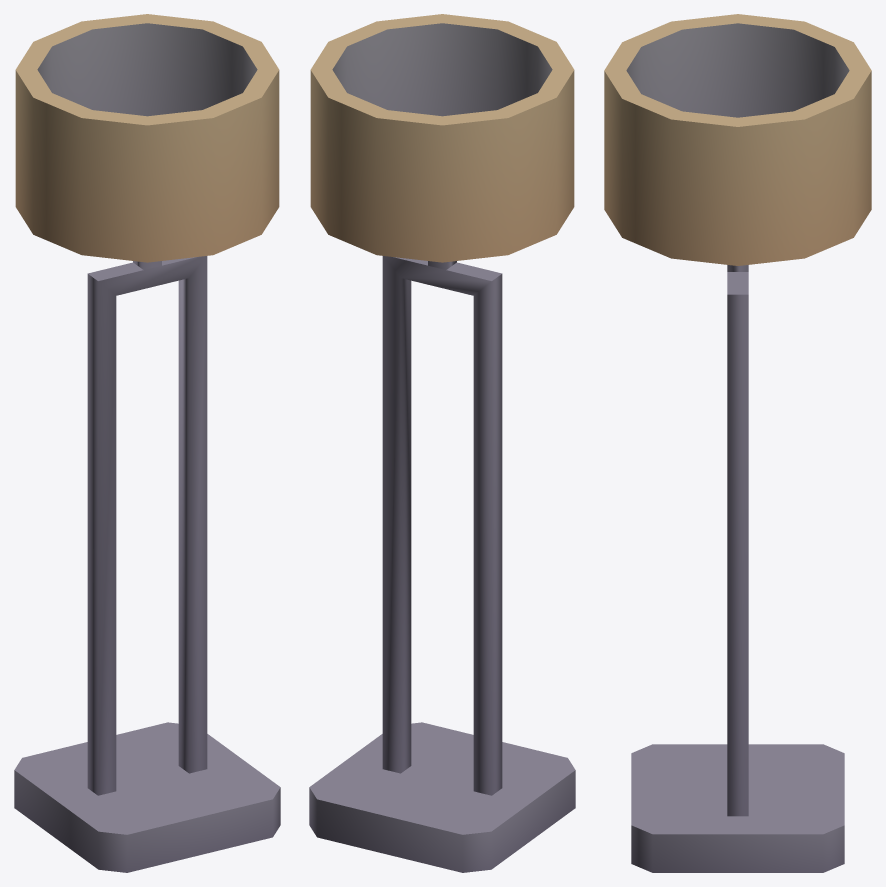
File: lamp-fork-standing.glb
3 views of the same model, side by side, from view 1: azimuth 30°, elevation 25°; view 2: azimuth 150°, elevation 25°; view 3: azimuth 270°, elevation 25° (orthographic).
Visible parts, largest first — view 1: lamp-fork-standing; view 2: lamp-fork-standing; view 3: lamp-fork-standing.
Boxes of the visible parts, x1,y1,x2,y2 form: lamp-fork-standing: (14, 14, 280, 872); lamp-fork-standing: (309, 14, 575, 872); lamp-fork-standing: (604, 14, 871, 872).
Size of the model in its own units: 0.3137 by 0.9799 by 0.3137.
